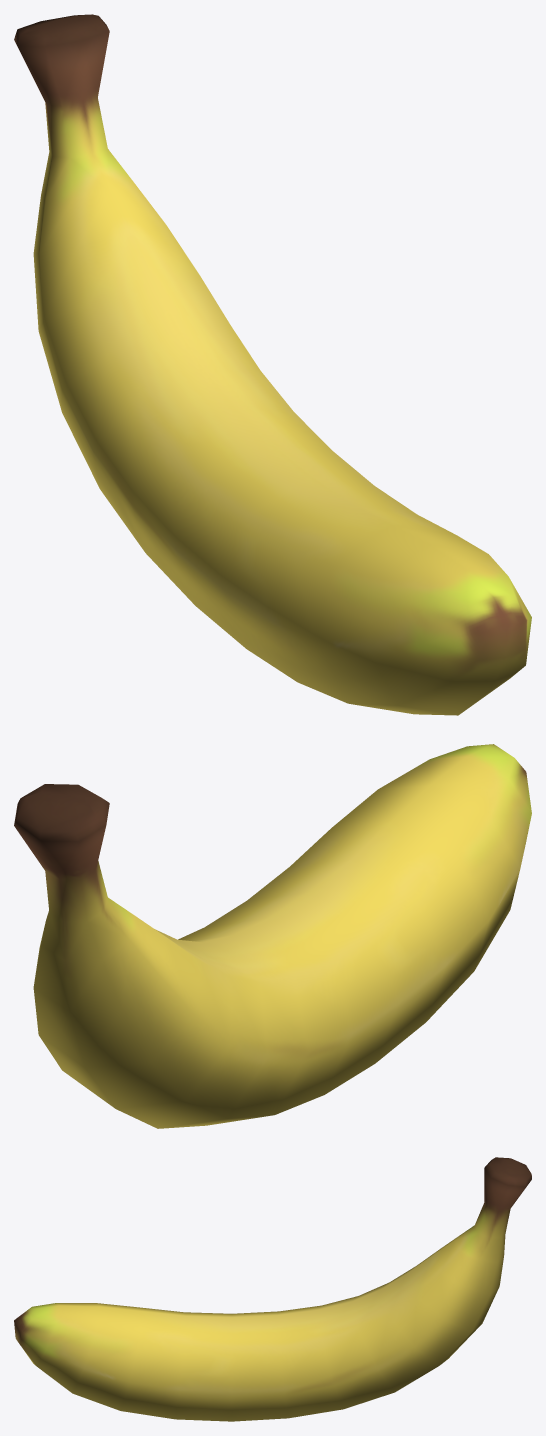
3 views of the same model, one above another, from view 1: azimuth 30°, elevation 25°; view 2: azimuth 150°, elevation 25°; view 3: azimuth 270°, elevation 25° (orthographic). The views are drawn at different scales.
Parts seen in each view (by area): view 1: Banana; view 2: Banana; view 3: Banana.
Boxes of the visible parts, bbox=[...] form: Banana: bbox=[14, 14, 531, 715]; Banana: bbox=[14, 744, 531, 1128]; Banana: bbox=[14, 1157, 531, 1421].
Bounding box in the file's own units: 0.0292 × 0.0725 × 0.1338.
1 material, 1 textured.
